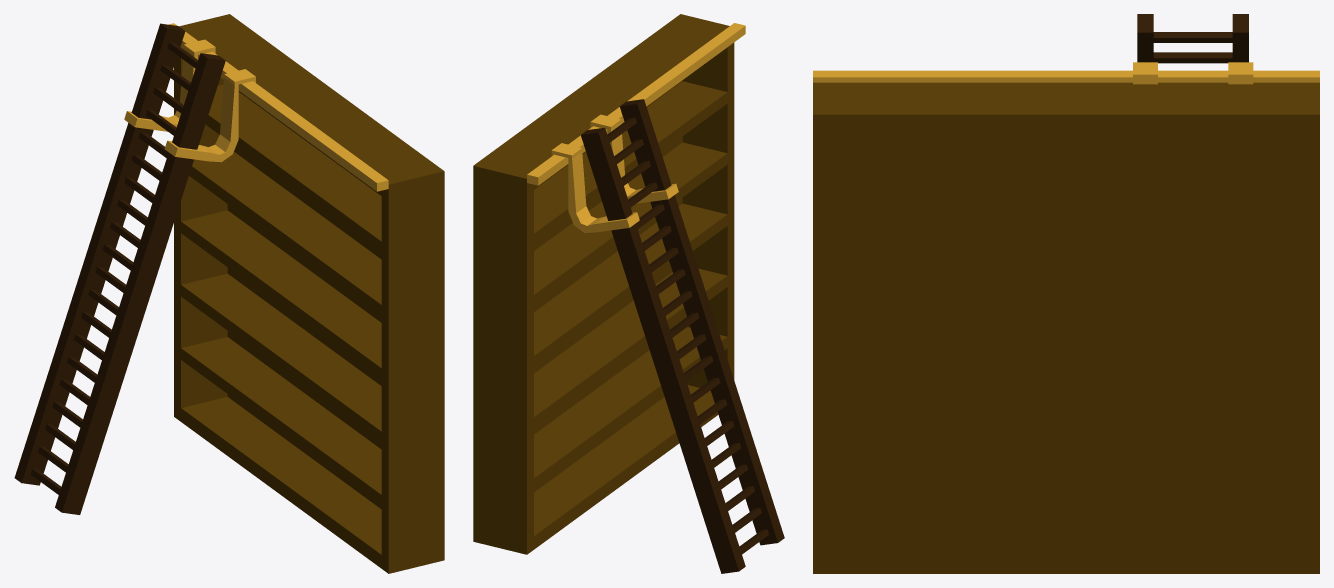
Rendered from bookCase_XL_ladder_empty.fbx.
3 views of the same model, side by side, from view 1: azimuth 30°, elevation 25°; view 2: azimuth 150°, elevation 25°; view 3: azimuth 270°, elevation 25° (orthographic). The views are drawn at different scales.
Parts seen in each view (by area): view 1: bookCase_XL_ladder_empy; view 2: bookCase_XL_ladder_empy; view 3: bookCase_XL_ladder_empy.
Part boxes in pixels (left/top/right/bottom): bookCase_XL_ladder_empy: left=14, top=14, right=444, bottom=573; bookCase_XL_ladder_empy: left=473, top=14, right=784, bottom=573; bookCase_XL_ladder_empy: left=813, top=14, right=1319, bottom=573.
Bounding box in the file's own units: 132 × 219 × 200.
